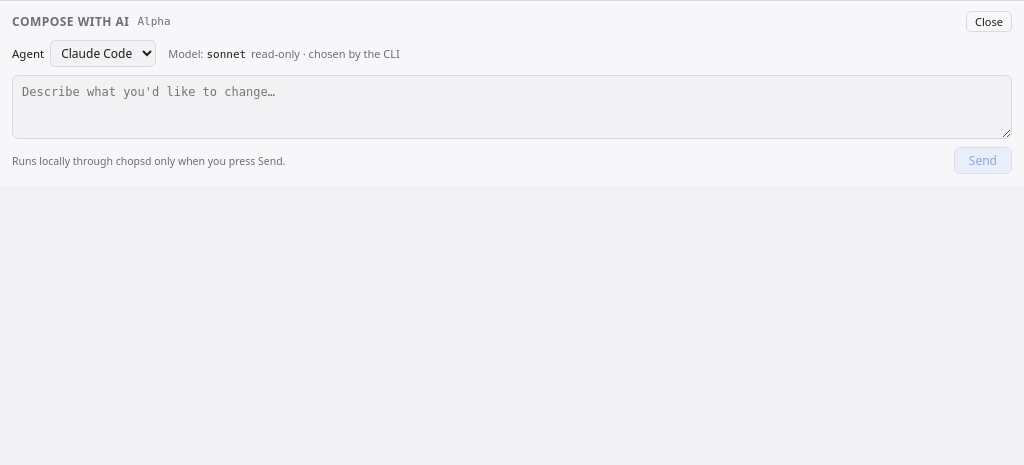
Test: ComposePanel (T16 part B) › rejects the pending write and reports the discarded review
Type "Tighten the wording" into the text box named "Compose prompt". click: (512, 107)
box: [12,75,1012,139]
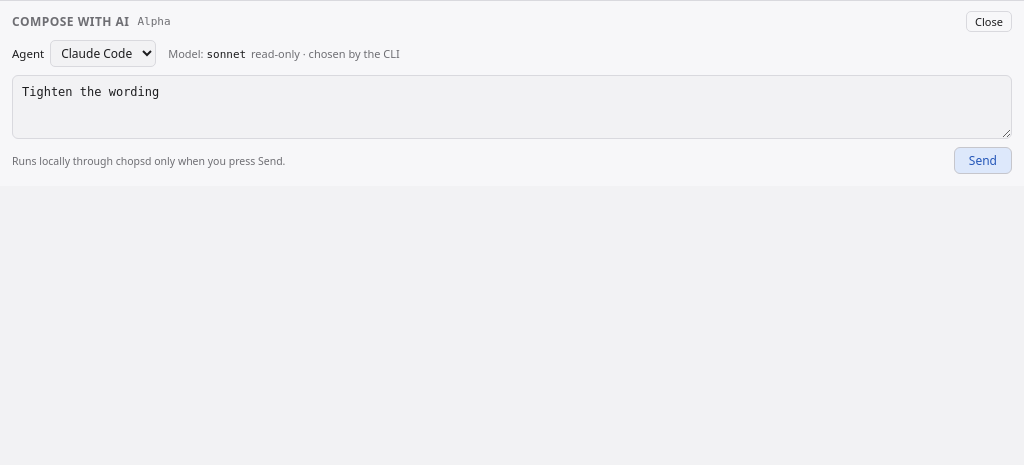
Click the button "Send". click: (983, 160)
box: [954,147,1012,174]
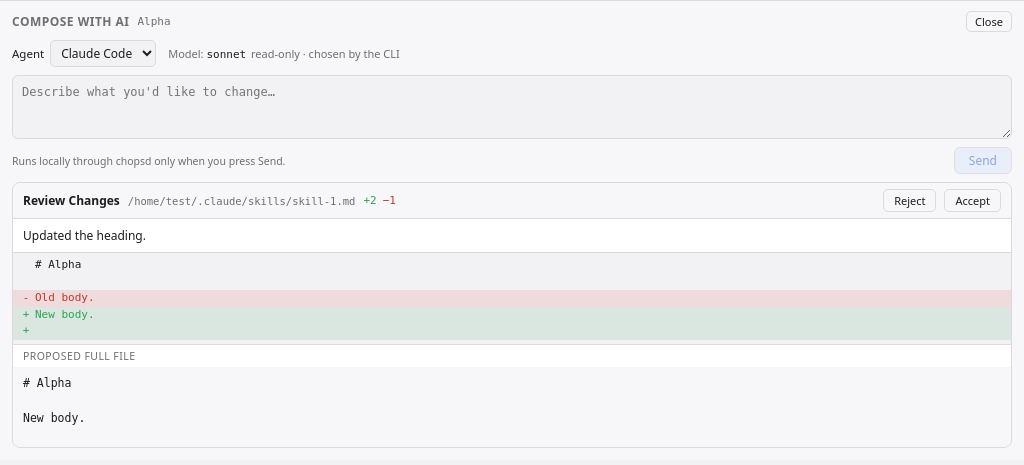
Now the button "Reject" is shown
Click the button "Reject". click: (910, 200)
box: [883,189,936,212]
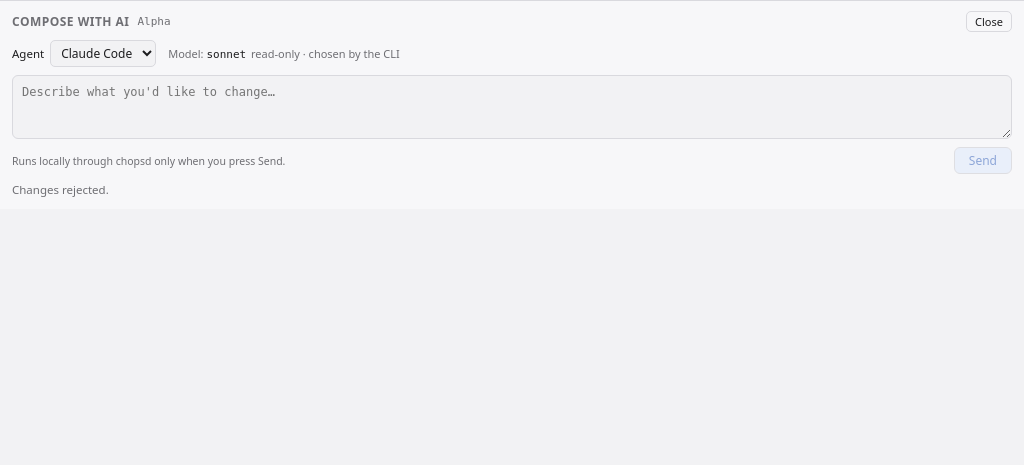
Now the text "Changes rejected." is shown, box [12,182,109,197]
